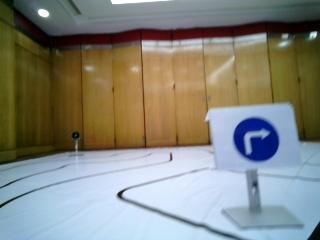right: (211, 108, 300, 163)
